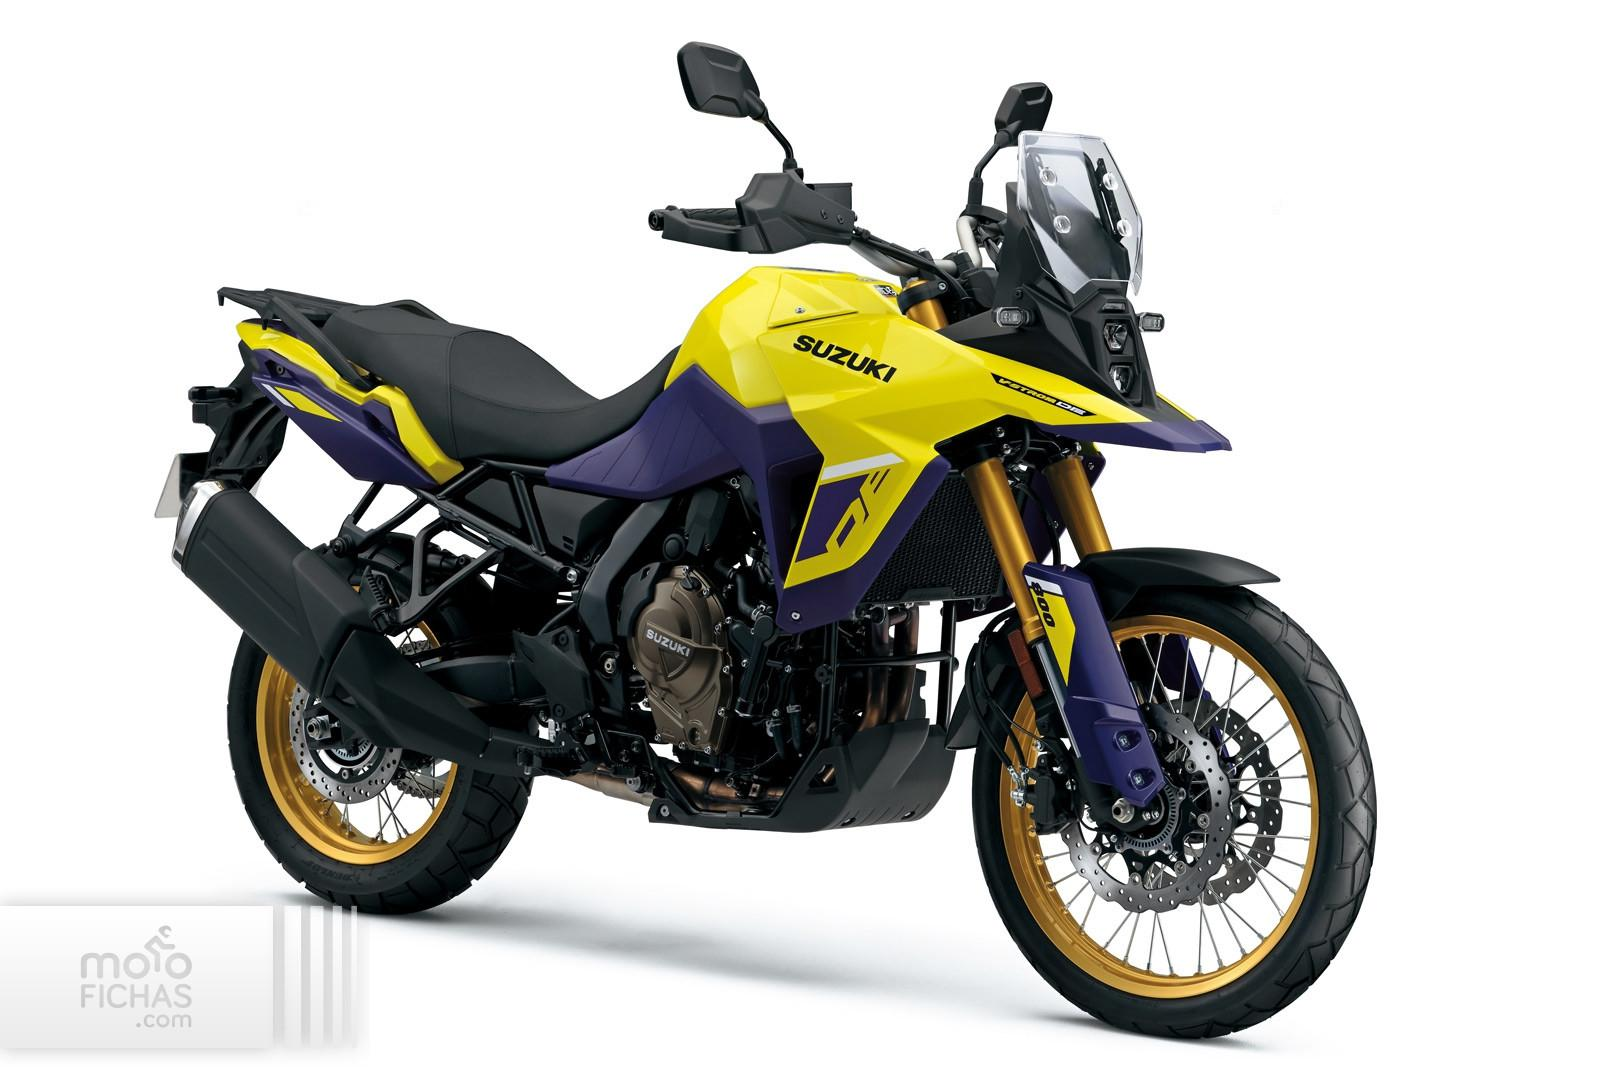engine-chasis: (511, 473, 1013, 834)
exhaust: (170, 476, 558, 779), (658, 756, 786, 815), (849, 664, 915, 741), (555, 773, 654, 806), (894, 605, 919, 655), (865, 609, 889, 657)
frontside: (543, 129, 1285, 830)
handlebar: (651, 39, 994, 307), (954, 81, 1054, 287)
motorbike: (157, 40, 1374, 1035)
rearside: (154, 286, 623, 776)
seat: (321, 305, 680, 462)
tank: (661, 264, 901, 407)
watermark: (0, 905, 375, 1054)
wheel: (975, 589, 1379, 1038), (227, 635, 527, 912), (1012, 751, 1085, 836)
